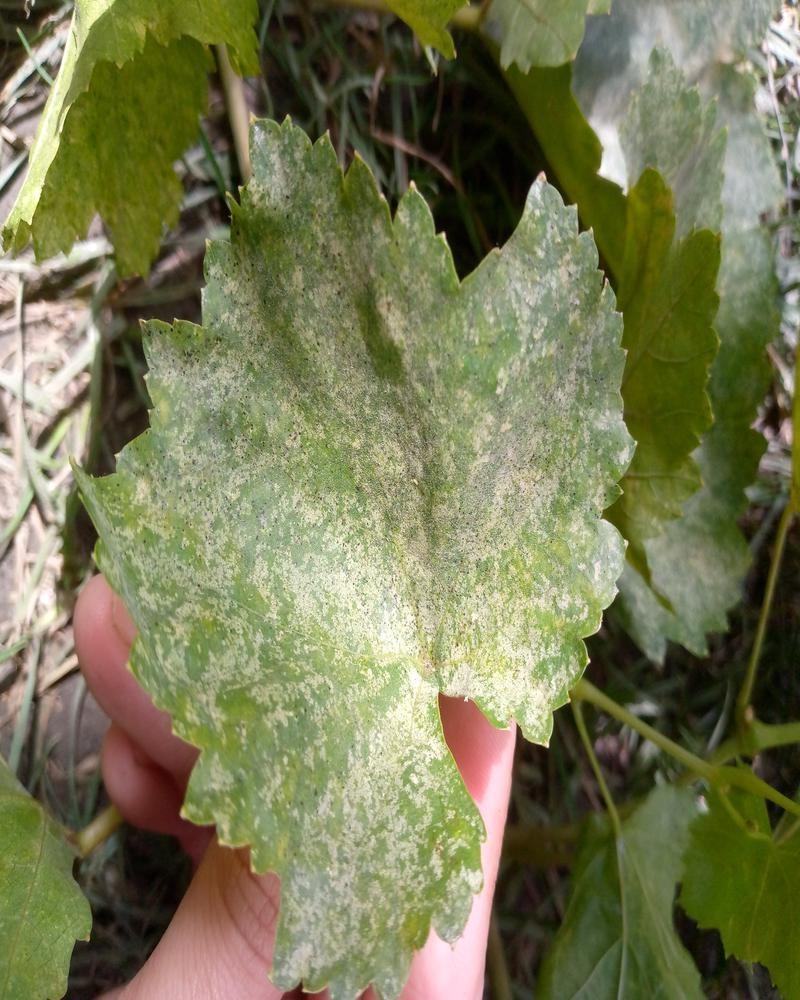Powdery-Mildew: (364, 576, 563, 796), (199, 526, 388, 714), (261, 275, 430, 485), (282, 784, 452, 982), (472, 178, 601, 417), (146, 332, 241, 497), (530, 513, 625, 607), (588, 408, 639, 475)
